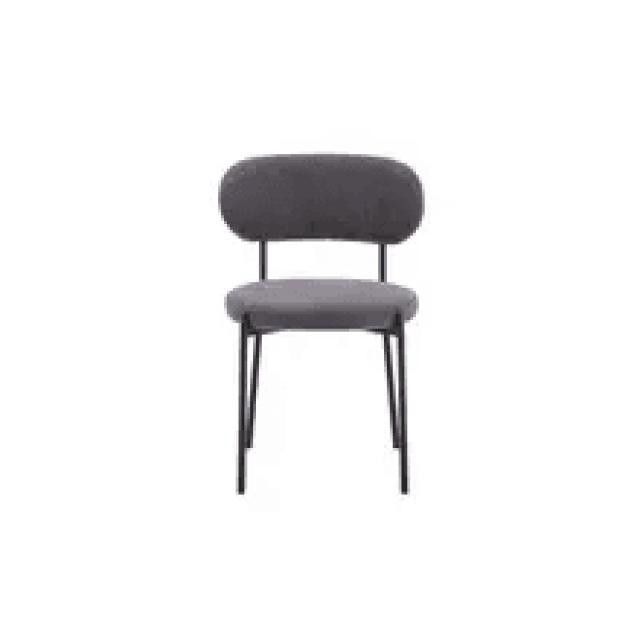chair: (220, 143, 426, 503), (218, 153, 424, 329)
